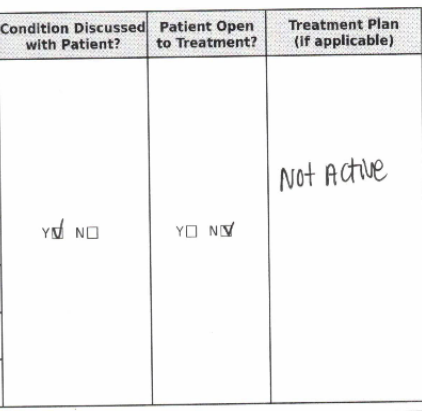checked: (219, 216, 239, 246), (51, 217, 67, 241)
